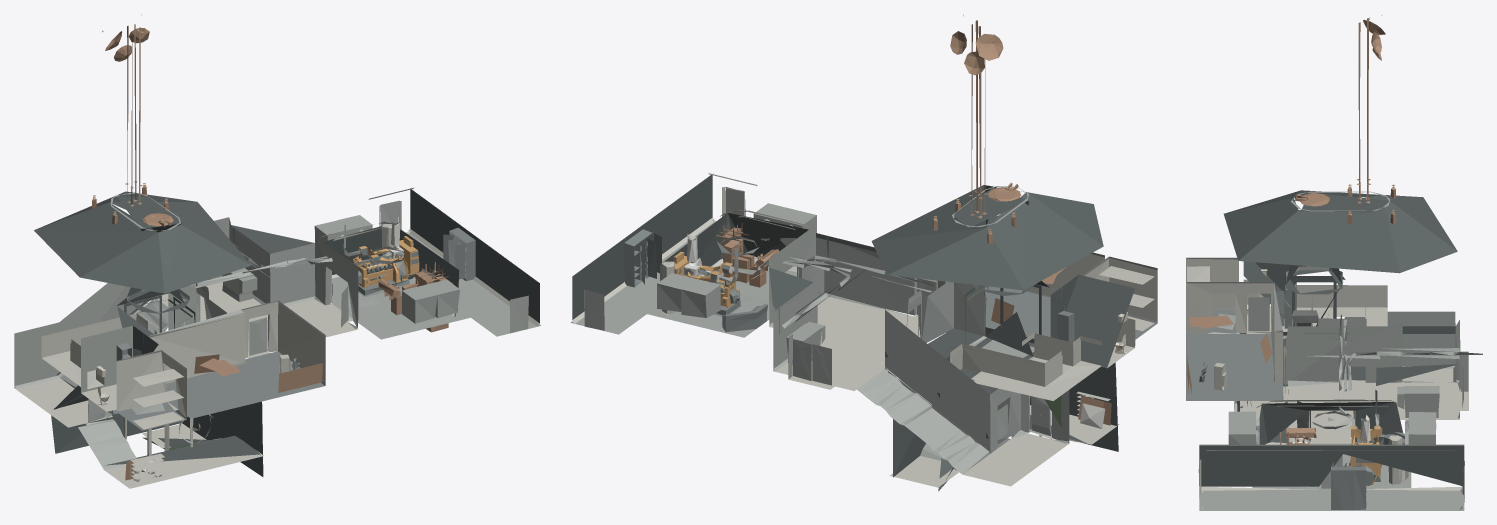
The model's file is entrance_bunker_b.glb.
3 views of the same model, side by side, from view 1: azimuth 30°, elevation 25°; view 2: azimuth 150°, elevation 25°; view 3: azimuth 270°, elevation 25° (orthographic). The views are drawn at different scales.
Parts seen in each view (by area): view 1: stairwell_top_country_a_LOD0, ground_cloth_a_LOD0, stairwell_top_country_b_LOD0, diesel_engine_LOD0; view 2: stairwell_top_country_a_LOD0, ground_cloth_a_LOD0, stairwell_top_country_b_LOD0, diesel_engine_LOD0; view 3: stairwell_top_country_a_LOD0, ground_cloth_a_LOD0, stairwell_top_country_b_LOD0, diesel_engine_LOD0.
Part boxes in pixels (x1,y1,x2,y2): stairwell_top_country_a_LOD0: (14, 24, 541, 480); ground_cloth_a_LOD0: (14, 187, 539, 488); stairwell_top_country_b_LOD0: (96, 227, 475, 430); diesel_engine_LOD0: (128, 222, 436, 480); stairwell_top_country_a_LOD0: (570, 20, 1157, 491); ground_cloth_a_LOD0: (572, 173, 1157, 487); stairwell_top_country_b_LOD0: (624, 229, 1157, 447); diesel_engine_LOD0: (673, 234, 1105, 428); stairwell_top_country_a_LOD0: (1186, 15, 1482, 510); ground_cloth_a_LOD0: (1186, 257, 1468, 509); stairwell_top_country_b_LOD0: (1186, 269, 1404, 509); diesel_engine_LOD0: (1250, 401, 1382, 485).
Bounding box in the file's own units: 27.62 × 27.78 × 16.79.
